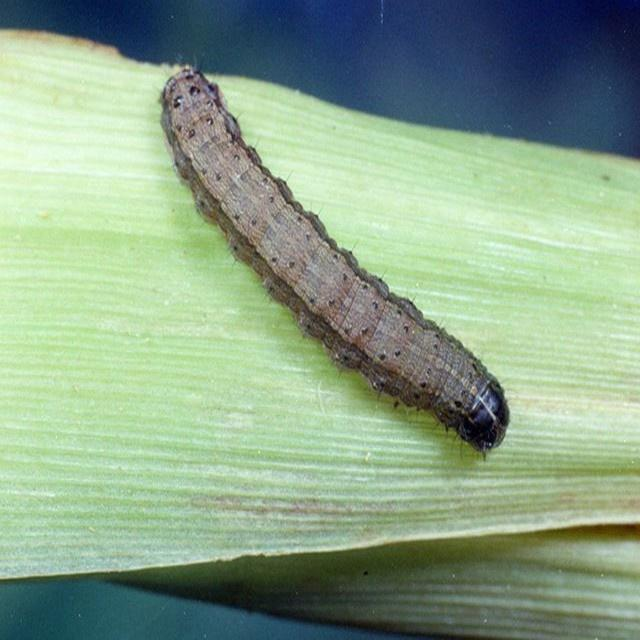gusano_cogollero: (152, 64, 512, 457)
